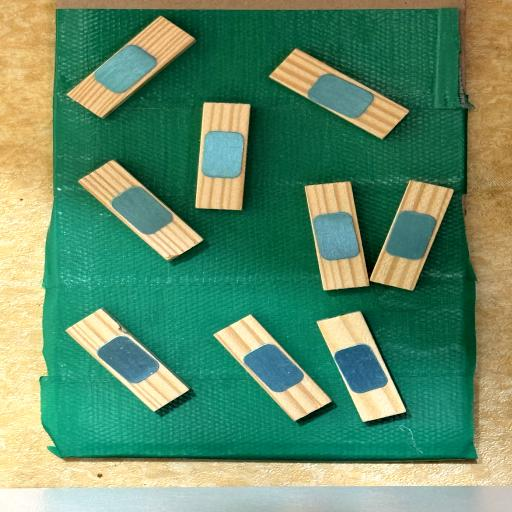objects: (67, 8, 196, 126), (77, 151, 204, 270), (65, 301, 189, 420), (213, 306, 332, 429), (269, 43, 410, 145), (316, 303, 407, 431), (369, 173, 453, 297), (303, 177, 370, 295), (194, 100, 251, 212)
